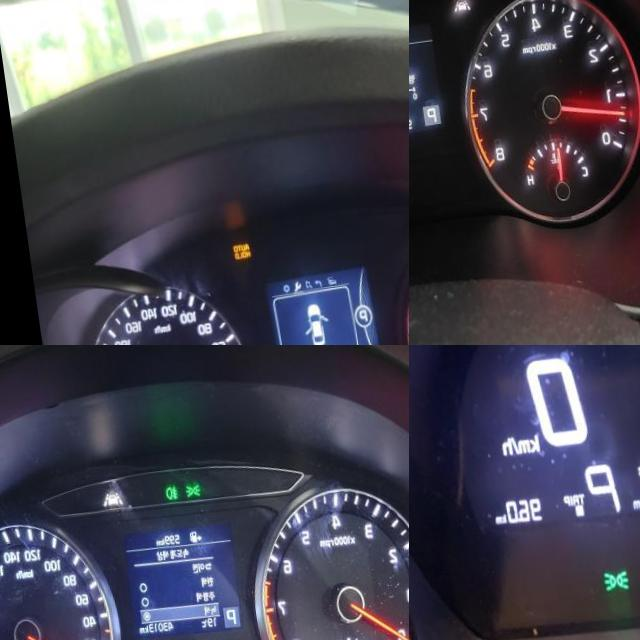FrontFogLight: (159, 493, 172, 509)
LaneCenteringOff: (96, 498, 118, 515), (446, 7, 464, 23)
SideLamp: (587, 574, 615, 599), (179, 492, 196, 508)
